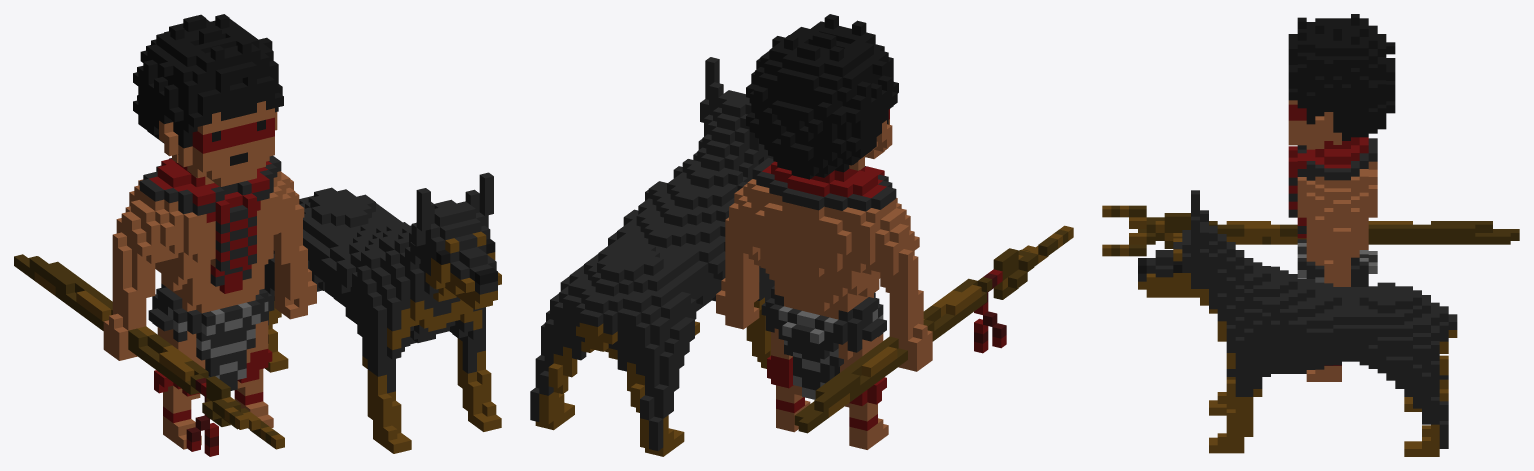
The model's file is Cachorro e Hunter.obj.
The picture shows the model from 3 angles, left to right: view 1: azimuth 30°, elevation 25°; view 2: azimuth 150°, elevation 25°; view 3: azimuth 270°, elevation 25°; orthographic projection. The views are drawn at different scales.
Bounding box in the file's own units: 3.7 × 4.2 × 4.7.
Materials: 1 (1 with a texture image).
